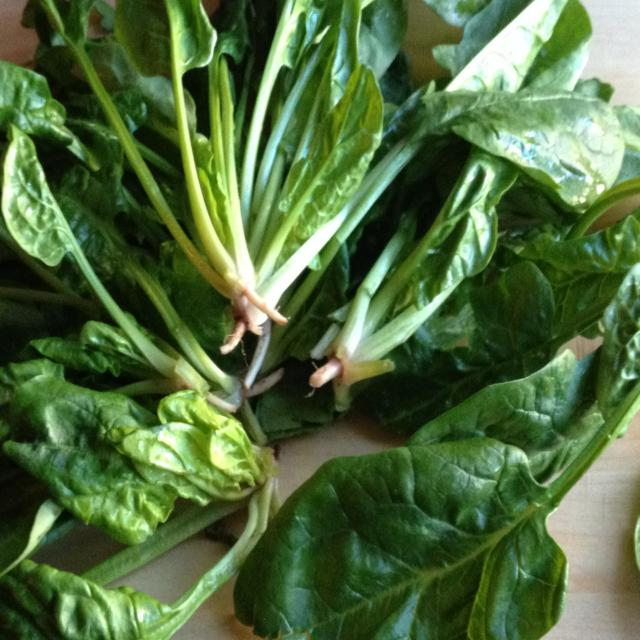spinach: (288, 451, 566, 640), (6, 382, 134, 541), (468, 88, 622, 206), (2, 132, 65, 268), (321, 73, 383, 208), (0, 60, 57, 136)
